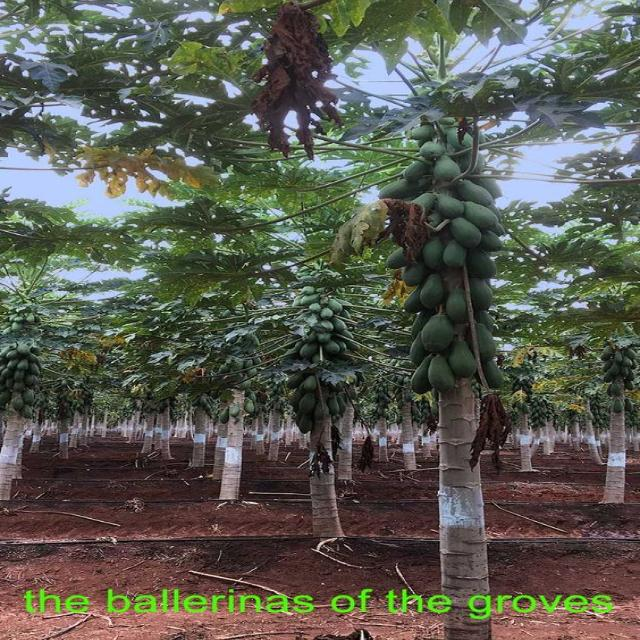Papaya-Tree: (21, 14, 389, 477), (366, 0, 640, 517)
